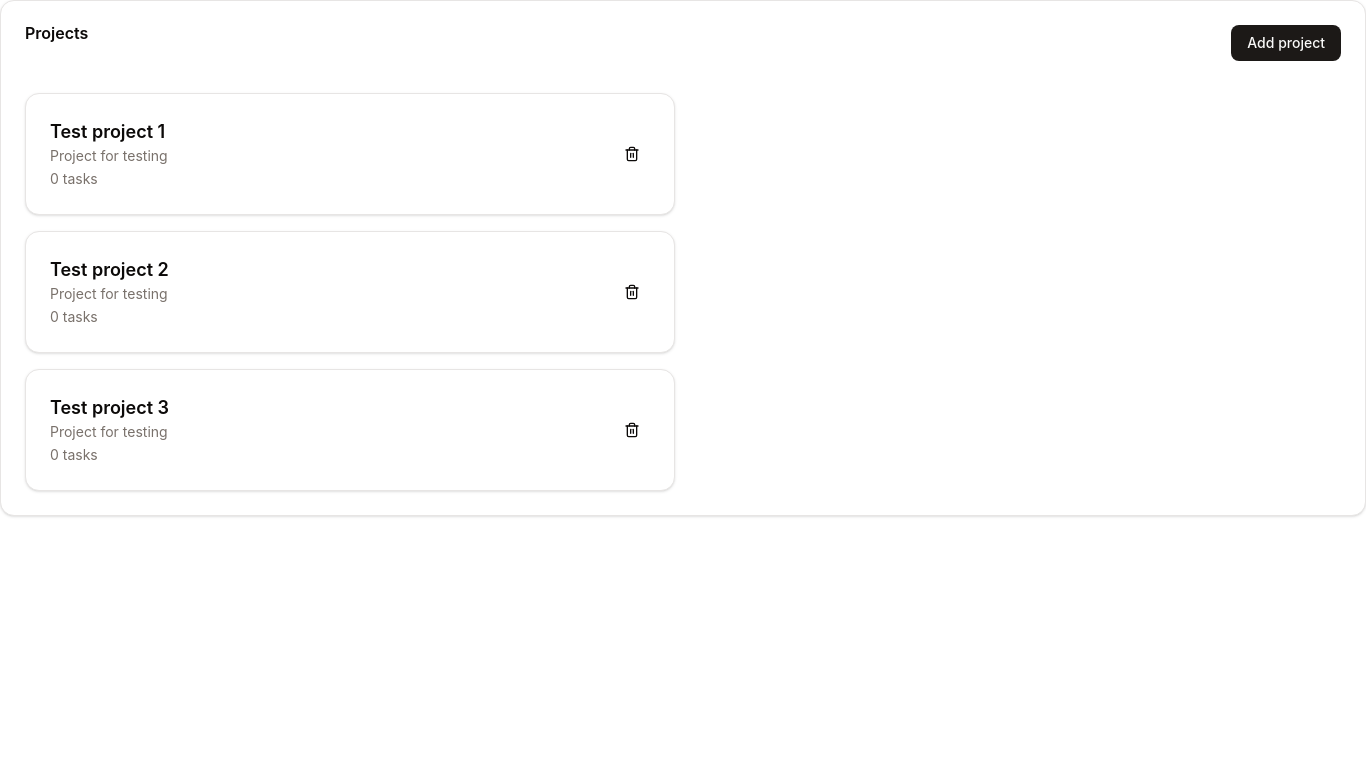
Test: ProjectList › renders Form Dialog when AddProject is clicked
The image size is (1366, 768).
Click the button "Add project": {"x": 1286, "y": 43} [1231,25,1341,61]
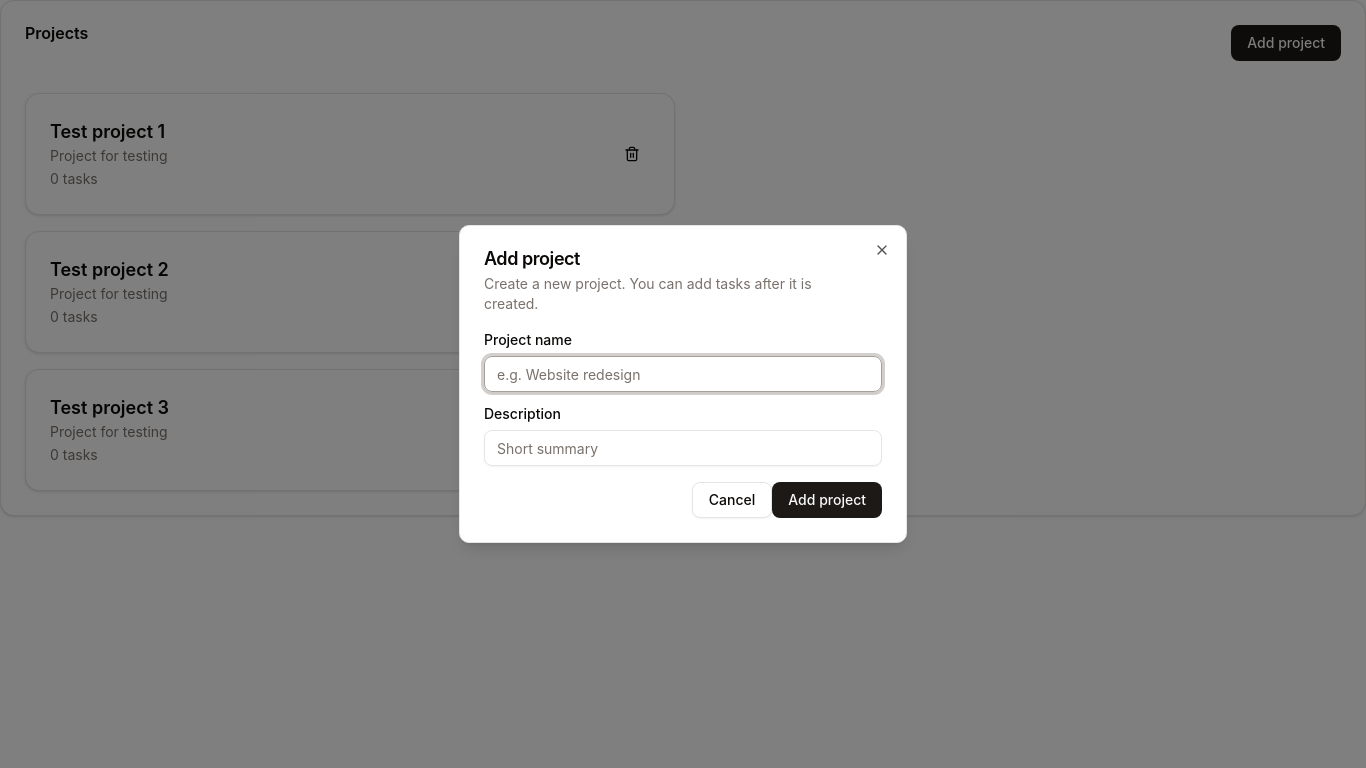
Check: the text "Create a new project. You can add tasks after it is created." is shown, box [484,274,858,314]
